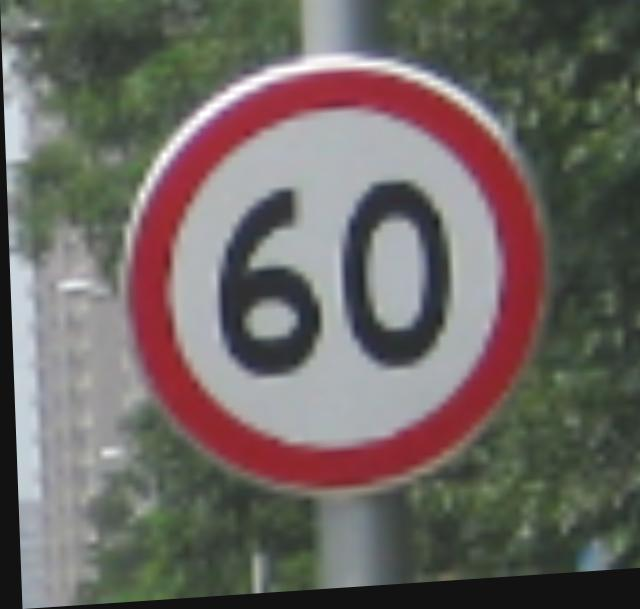limit60: (89, 32, 572, 514)
